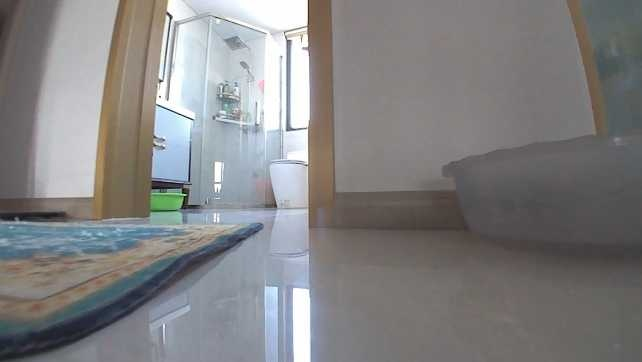blanket: (0, 217, 265, 355)
toilet: (269, 148, 307, 210)
